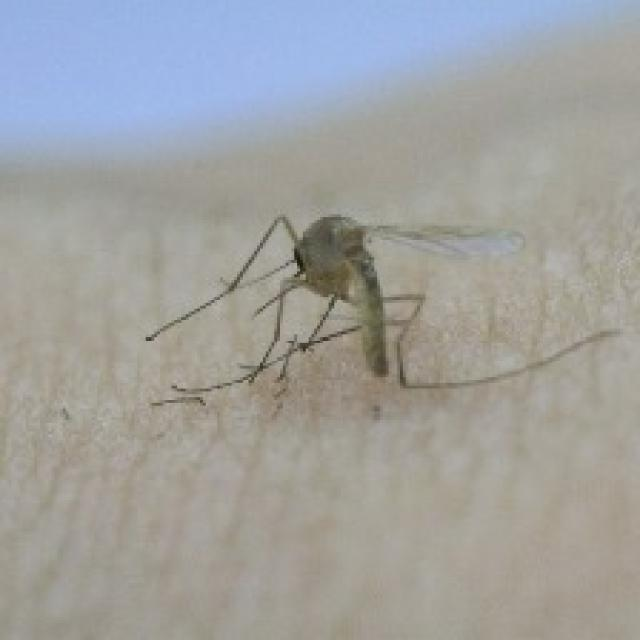culex: (143, 209, 620, 417)
